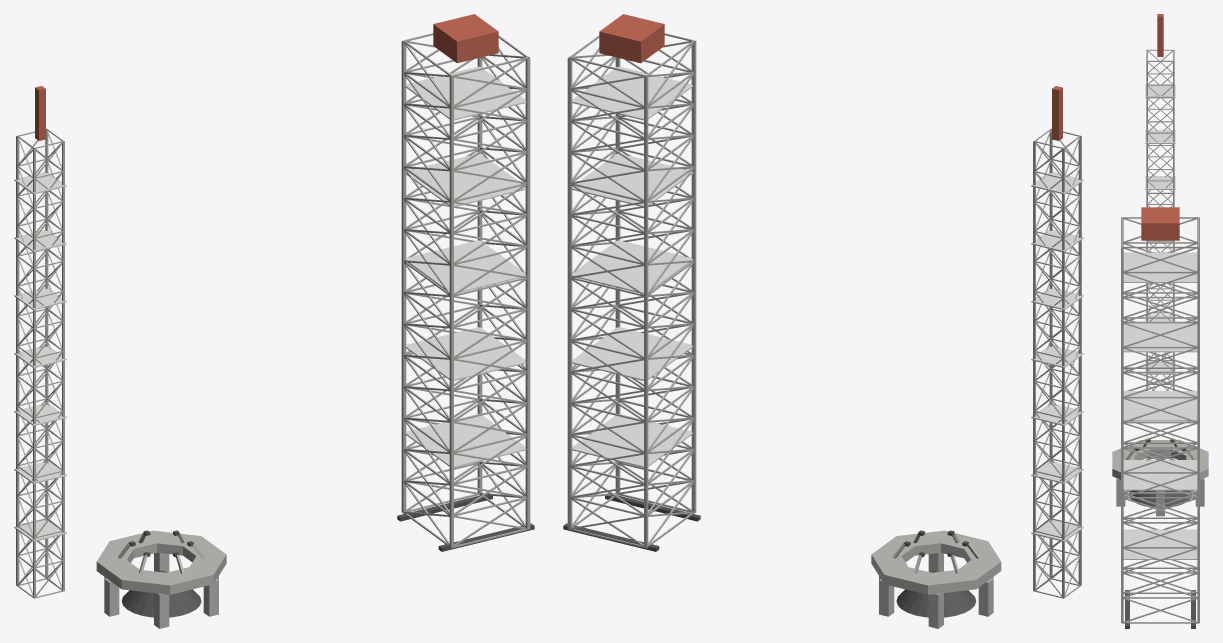
File: Pad_Proton.fbx
3 views of the same model, side by side, from view 1: azimuth 30°, elevation 25°; view 2: azimuth 150°, elevation 25°; view 3: azimuth 270°, elevation 25° (orthographic). The views are drawn at different scales.
Visible parts, largest first — view 1: Pad_Proton; view 2: Pad_Proton; view 3: Pad_Proton.
Boxes of the visible parts, <box> form: Pad_Proton: <box>14,14,534,628</box>; Pad_Proton: <box>563,14,1083,628</box>; Pad_Proton: <box>1112,14,1208,628</box>.
Size of the model in its own units: 70.6 by 75 by 15.15.
